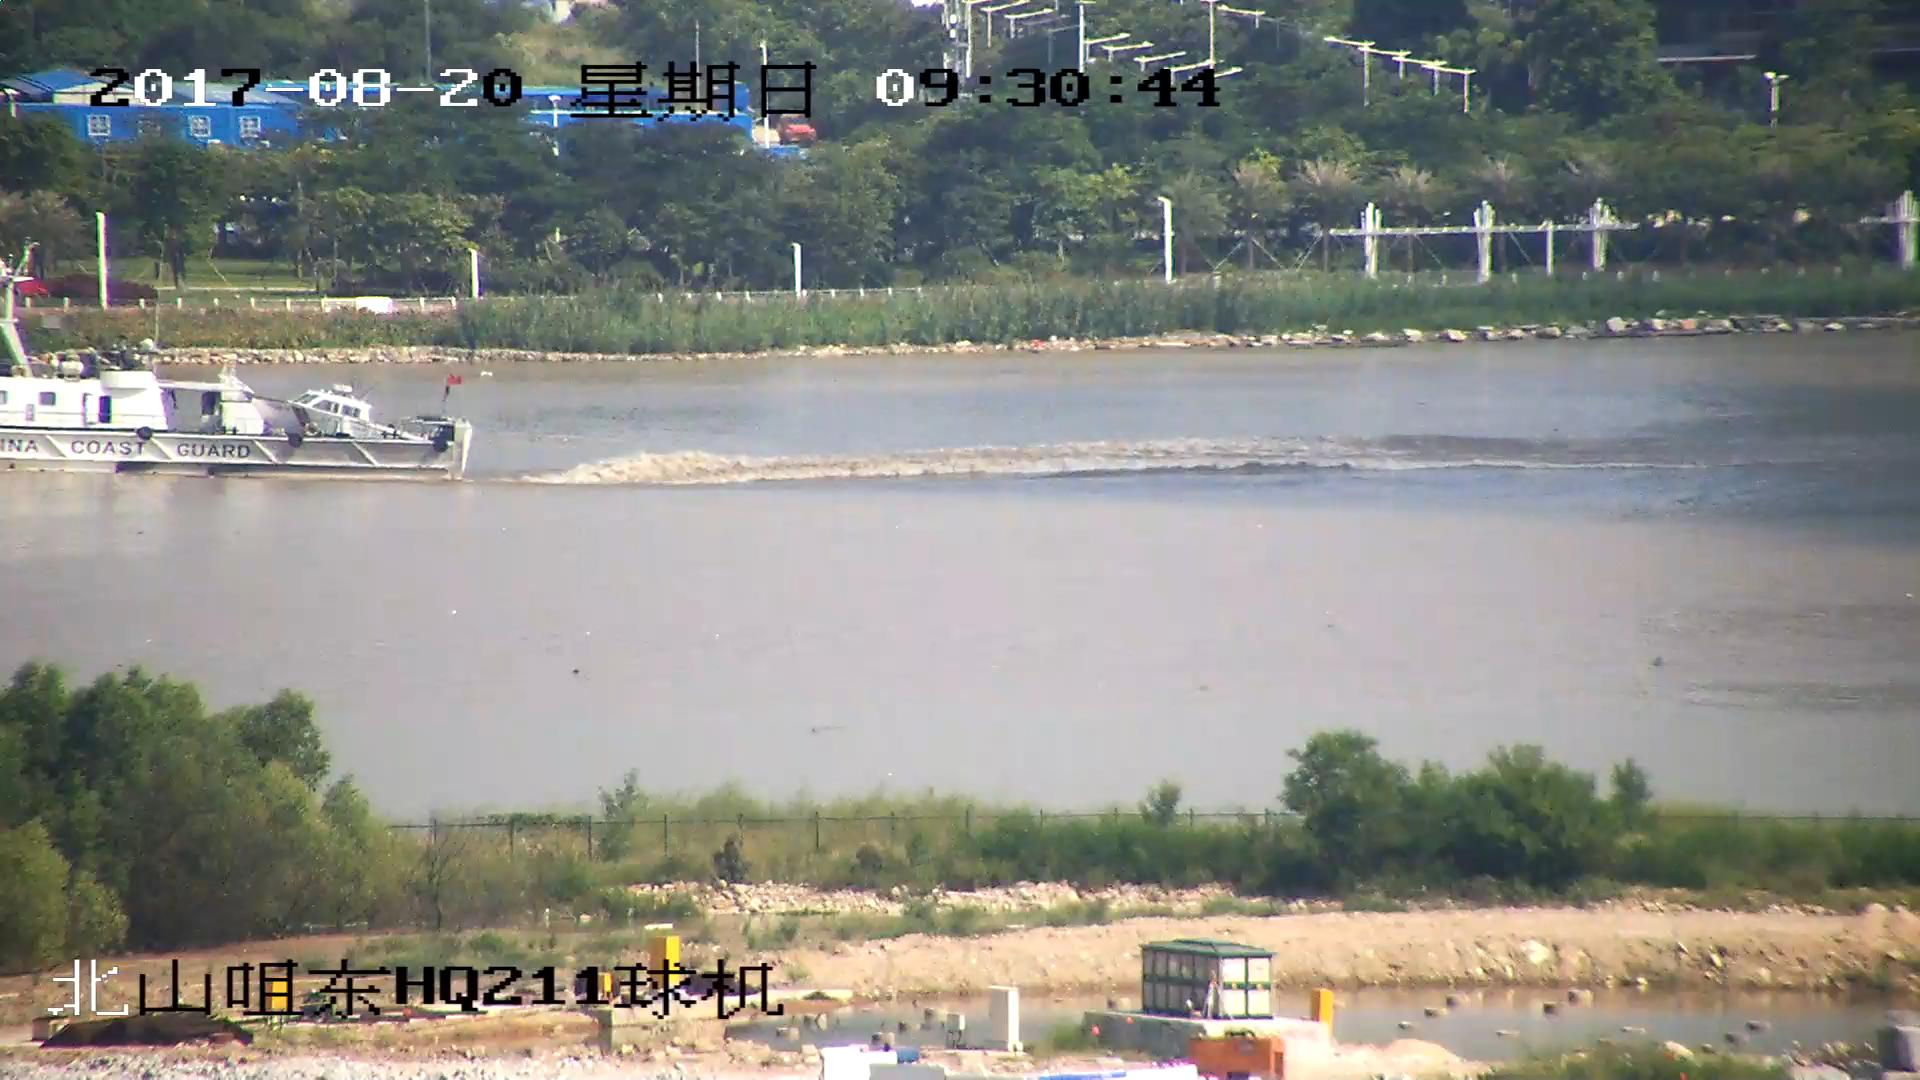passenger ship: (1, 270, 470, 486)
